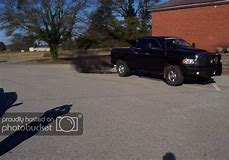smoke: (64, 46, 111, 73)
